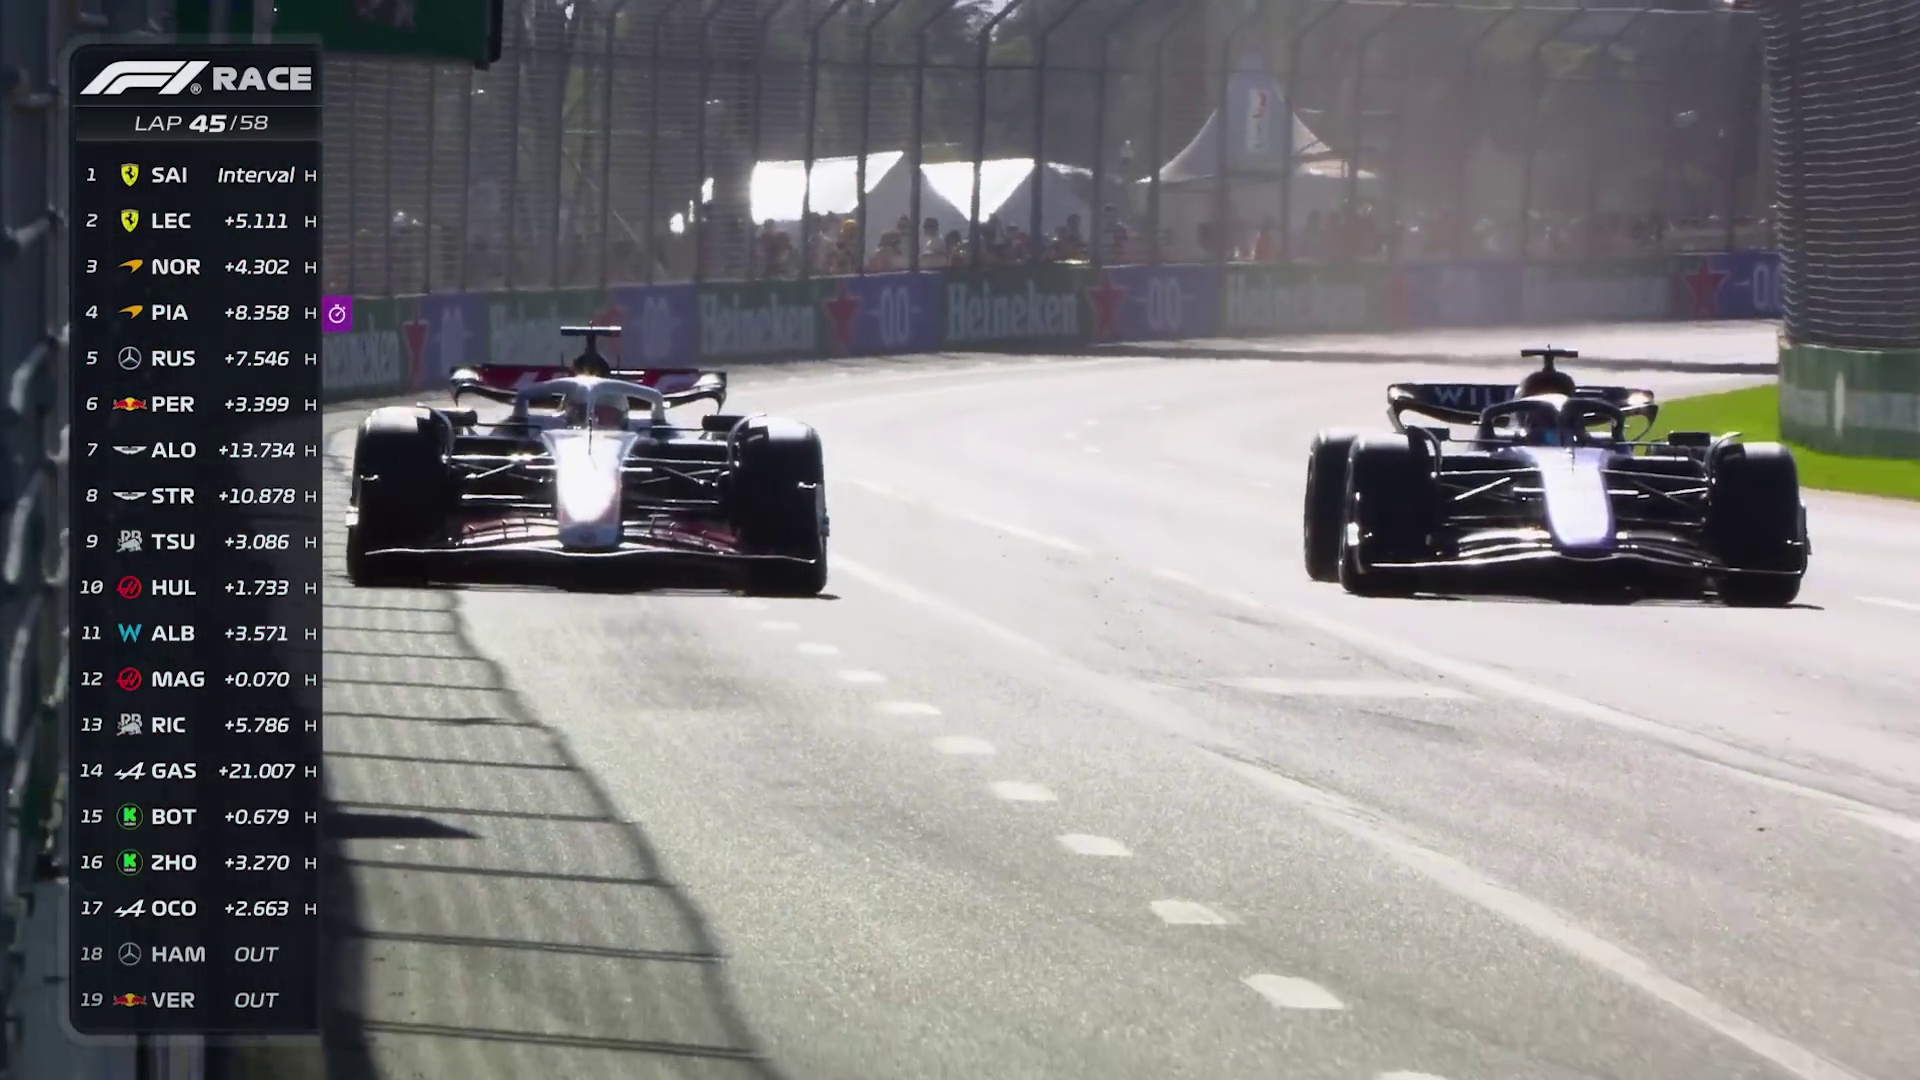Haas: (356, 363, 828, 598)
Willliams: (1303, 376, 1809, 596)
